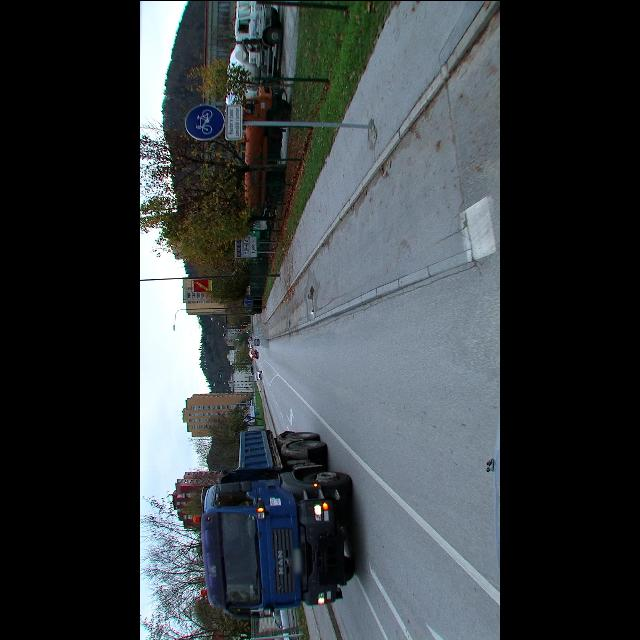Multi-inform: (235, 234, 258, 256)
Rectangle: (225, 104, 243, 140), (243, 296, 253, 306)
Round: (184, 104, 224, 138)
